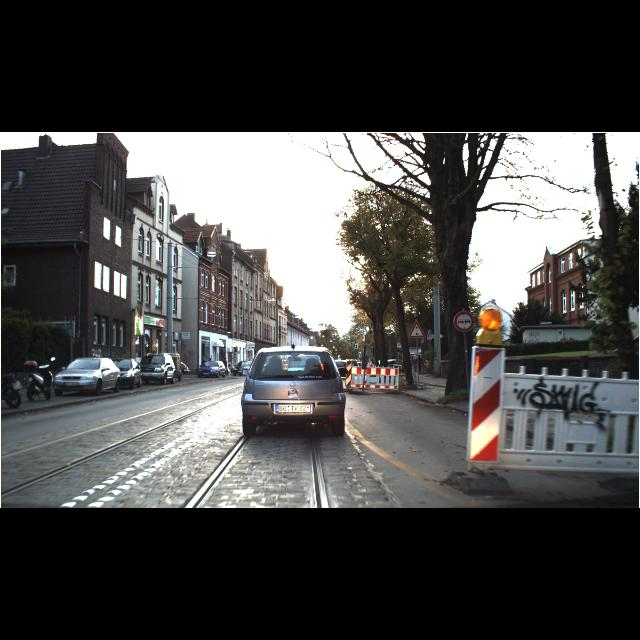danger: (408, 320, 426, 338)
prohibitory: (454, 310, 474, 332)
